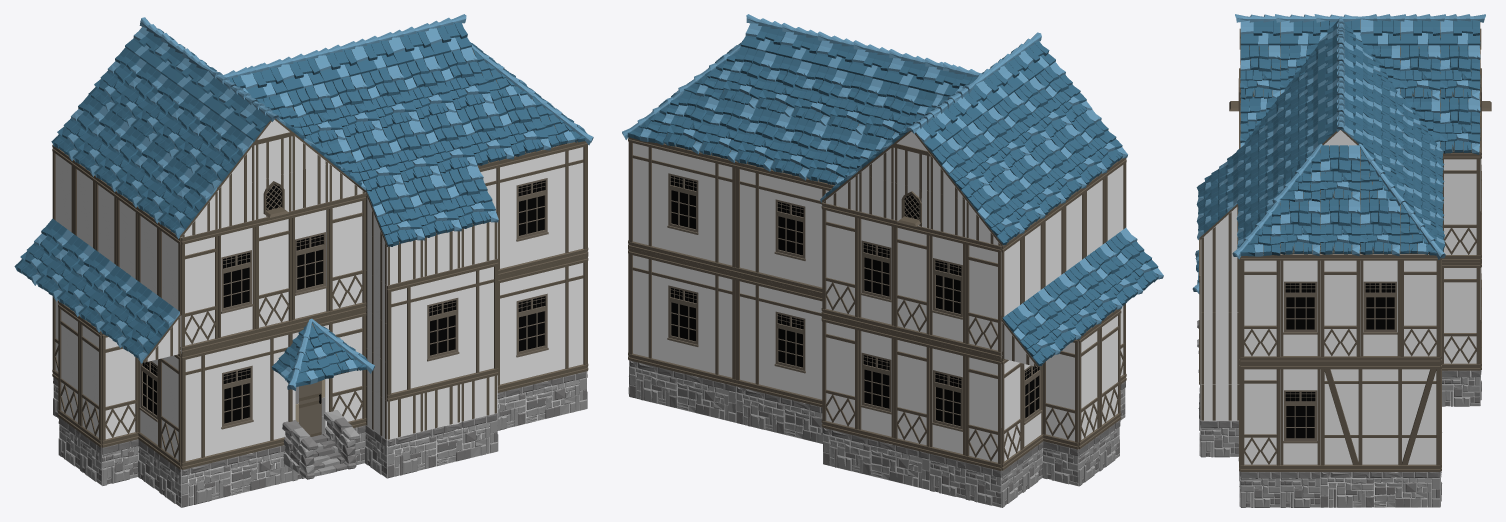
Rendered from House_19_full.fbx.
3 renders of one model, left to right at view 1: azimuth 30°, elevation 25°; view 2: azimuth 150°, elevation 25°; view 3: azimuth 270°, elevation 25°, orthographic. The views are drawn at different scales.
Parts seen in each view (by area): view 1: WINDOW_03_9, WINDOW_03_2, WINDOW_03_8, WINDOW_03_7, WALL_01_23, WINDOW_04_13, WALL_01_22, FOUNDATION_02_31, WALL_01_21, WINDOW_04_12, FOUNDATION_02_25, WALL_01_4 (+89 smaller); view 2: WINDOW_03_4, WINDOW_03_5, WINDOW_03_6, WINDOW_03_3, WALL_01_14, WALL_01_12, WALL_01_9, WALL_01_11, WINDOW_04_8, WINDOW_04_7, WALL_01_10, WALL_01_13 (+76 smaller); view 3: WALL_02_2, WINDOW_04_9, WINDOW_04_10, WALL_01_18, WALL_01_19, WINDOW_04_11, WALL_01_20, WALL_01_17, FOUNDATION_02_27, WALL_01_15, WALL_01_16, ROOF_base_52 (+59 smaller).
Part boxes in pixels (<box>): WINDOW_03_9: <box>386,258,498,401</box>; WINDOW_03_2: <box>181,327,292,469</box>; WINDOW_03_8: <box>478,141,587,276</box>; WINDOW_03_7: <box>497,255,587,392</box>; WALL_01_23: <box>181,229,219,354</box>; WINDOW_04_13: <box>218,220,255,345</box>; WALL_01_22: <box>255,211,292,335</box>; FOUNDATION_02_31: <box>387,413,497,478</box>; WALL_01_21: <box>329,193,366,317</box>; WINDOW_04_12: <box>292,202,329,327</box>; FOUNDATION_02_25: <box>181,445,291,507</box>; WALL_01_4: <box>102,333,138,447</box>; WINDOW_03_4: <box>628,248,735,385</box>; WINDOW_03_5: <box>628,137,735,273</box>; WINDOW_03_6: <box>735,161,834,294</box>; WINDOW_03_3: <box>735,274,822,407</box>; WALL_01_14: <box>965,237,1001,358</box>; WALL_01_12: <box>822,202,858,323</box>; WALL_01_9: <box>965,350,1001,470</box>; WALL_01_11: <box>822,315,858,435</box>; WINDOW_04_8: <box>929,229,965,349</box>; WINDOW_04_7: <box>858,211,893,332</box>; WALL_01_10: <box>893,333,929,453</box>; WALL_01_13: <box>893,220,929,341</box>; WALL_02_2: <box>1320,363,1440,471</box>; WINDOW_04_9: <box>1280,254,1320,363</box>; WINDOW_04_10: <box>1360,254,1400,363</box>; WALL_01_18: <box>1320,254,1360,363</box>; WALL_01_19: <box>1400,254,1440,363</box>; WINDOW_04_11: <box>1280,363,1320,471</box>; WALL_01_20: <box>1240,363,1280,471</box>; WALL_01_17: <box>1240,254,1280,363</box>; FOUNDATION_02_27: <box>1320,472,1440,507</box>; WALL_01_15: <box>1442,262,1480,370</box>; WALL_01_16: <box>1442,153,1480,261</box>; ROOF_base_52: <box>1320,198,1360,256</box>.
Size of the model in its own units: 1231 by 965 by 749.
